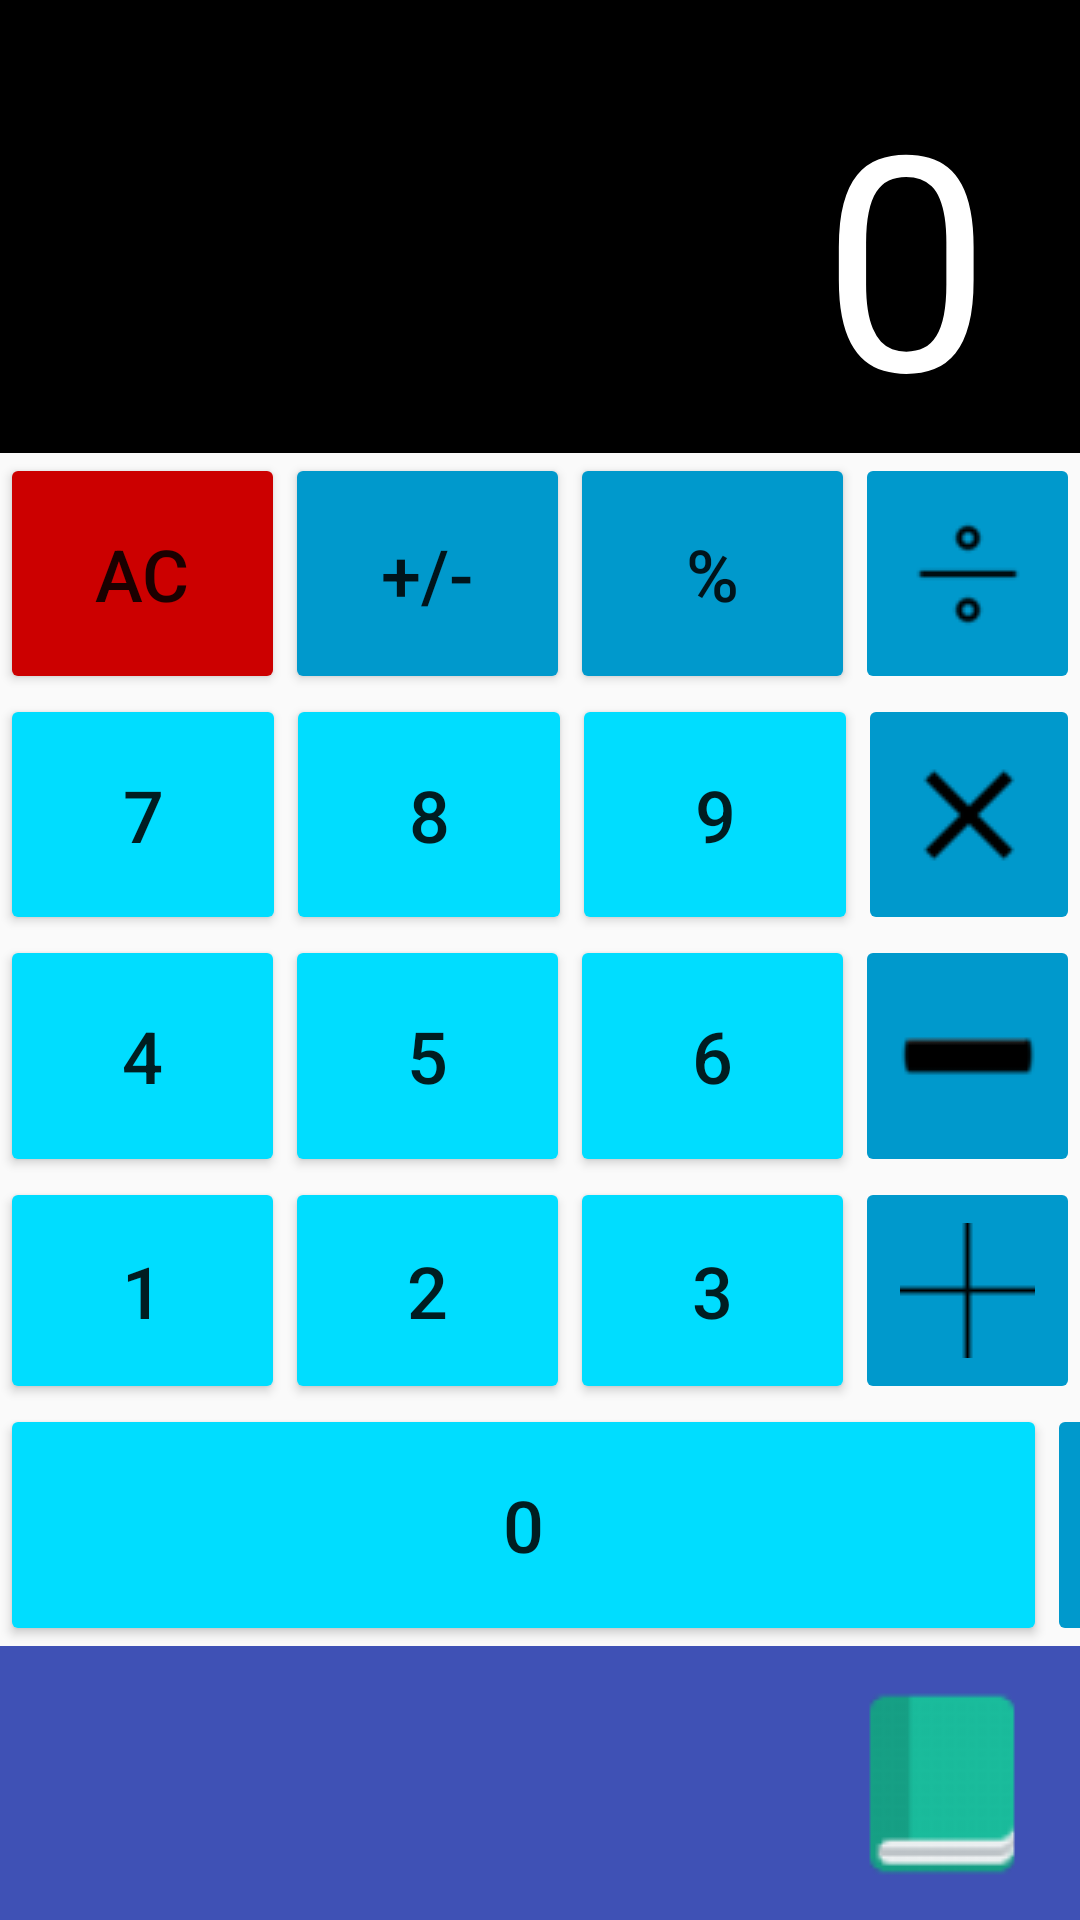

Named icons in this screenshot (1080px×1920px) and their centers, (x=x, y=y):
div: (x=967, y=573)
minusss: (x=967, y=1056)
notes: (x=942, y=1784)
plus: (x=967, y=1290)
times: (x=969, y=814)
